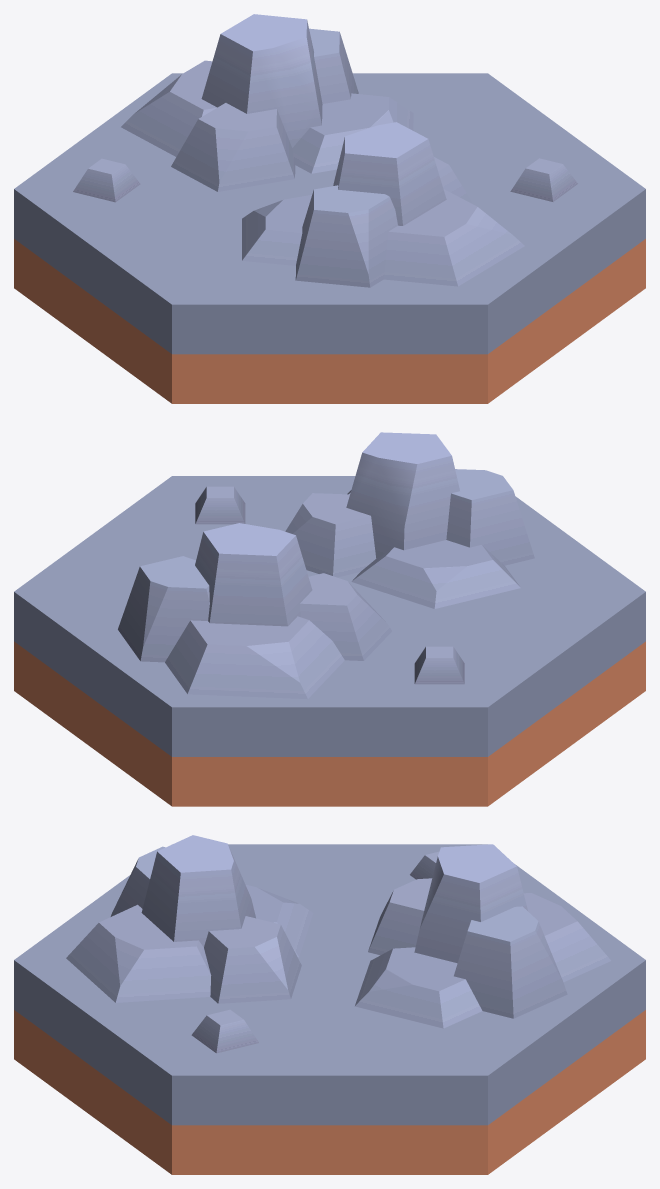
Rendered from stone-rocks.glb.
3 renders of one model, top to bottom at view 1: azimuth 30°, elevation 25°; view 2: azimuth 150°, elevation 25°; view 3: azimuth 270°, elevation 25°, orthographic.
Parts seen in each view (by area): view 1: stone-rocks; view 2: stone-rocks; view 3: stone-rocks.
Boxes of the visible parts, bbox=[...] form: stone-rocks: bbox=[14, 14, 645, 403]; stone-rocks: bbox=[14, 432, 645, 806]; stone-rocks: bbox=[14, 835, 645, 1174].
Bounding box in the file's own units: 1 × 0.4061 × 1.15.
Materials: 1 (1 with a texture image).
